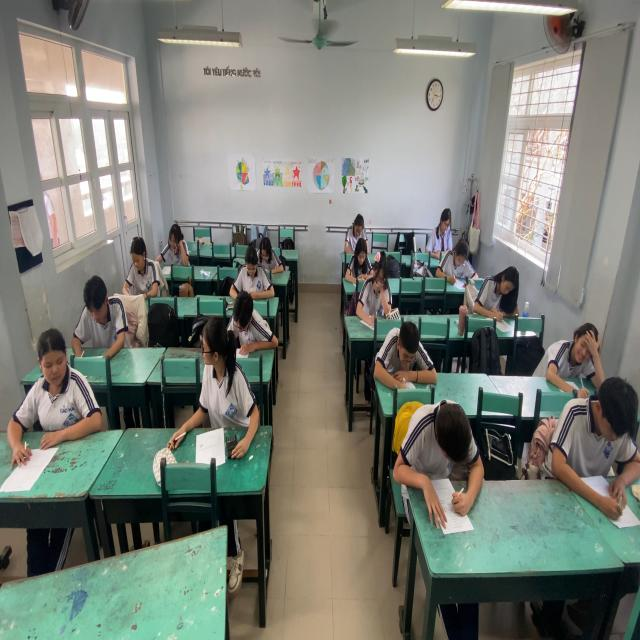cheating: (194, 322, 257, 451), (25, 323, 88, 450)
not_cheating: (560, 364, 634, 516), (392, 397, 487, 511), (368, 315, 442, 392), (73, 268, 128, 366), (534, 319, 602, 384), (472, 259, 526, 332), (232, 290, 274, 354), (122, 233, 160, 302), (359, 254, 394, 323), (442, 229, 473, 288), (234, 237, 267, 292), (346, 233, 375, 294), (426, 207, 464, 252), (160, 217, 187, 271), (255, 220, 280, 269), (346, 210, 366, 251)
